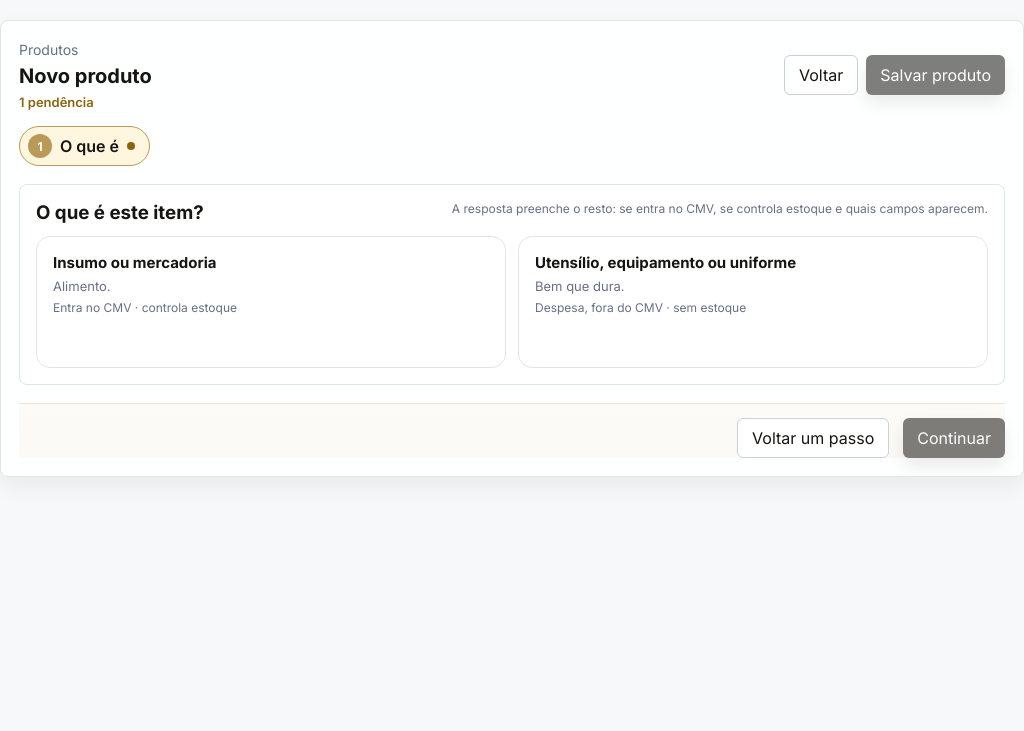
ProductEditor › avisa quando já existe item de nome parecido
This screenshot has width=1024, height=731.
Click the radio button labelled "Insumo ou mercadoria" at (135, 262), box [36,236,506,368]
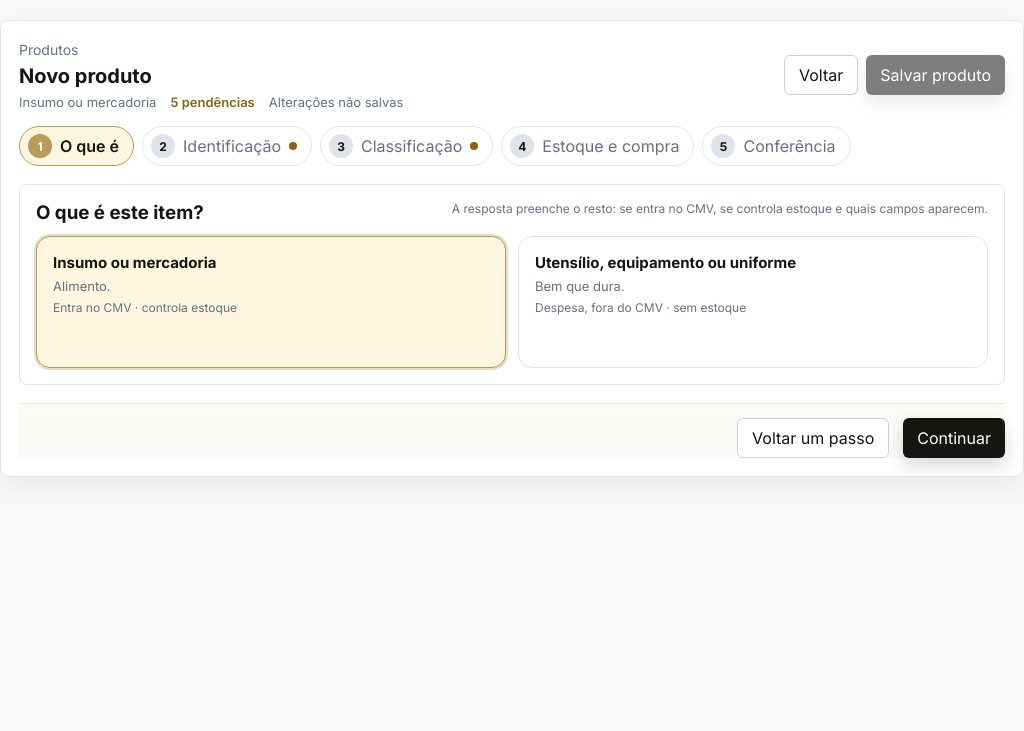
Click the button "Continuar" at (954, 438), box [903,418,1005,458]
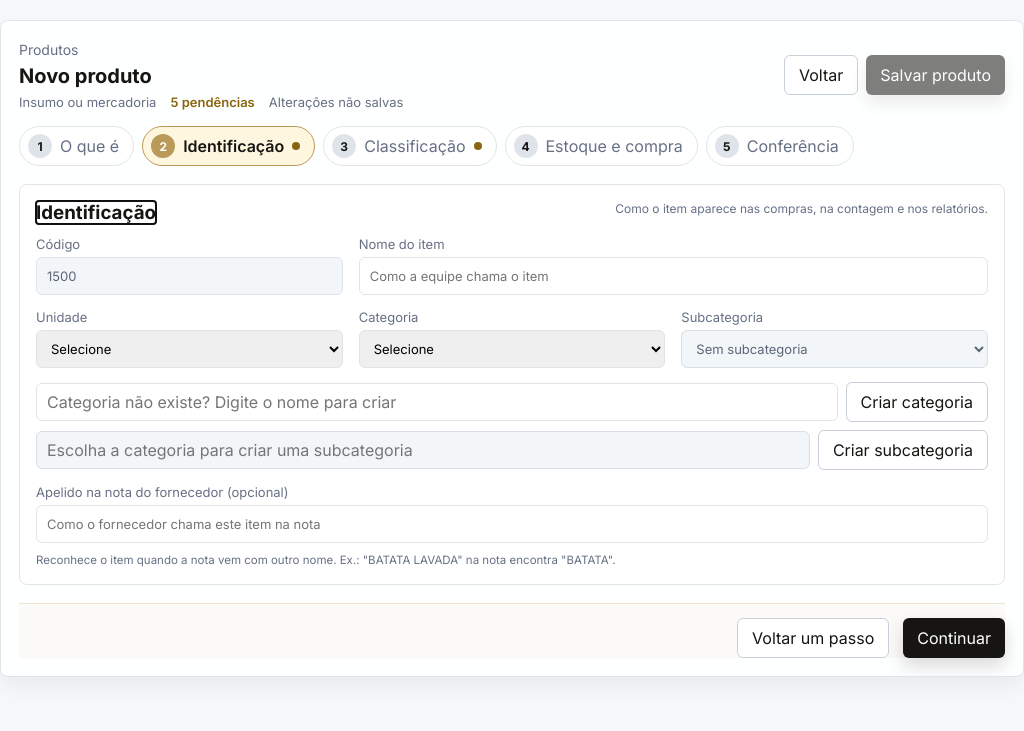
Type "Farinha de trigo" into the field with placeholder "Como a equipe chama o item" at (673, 276), box [359,257,988,295]
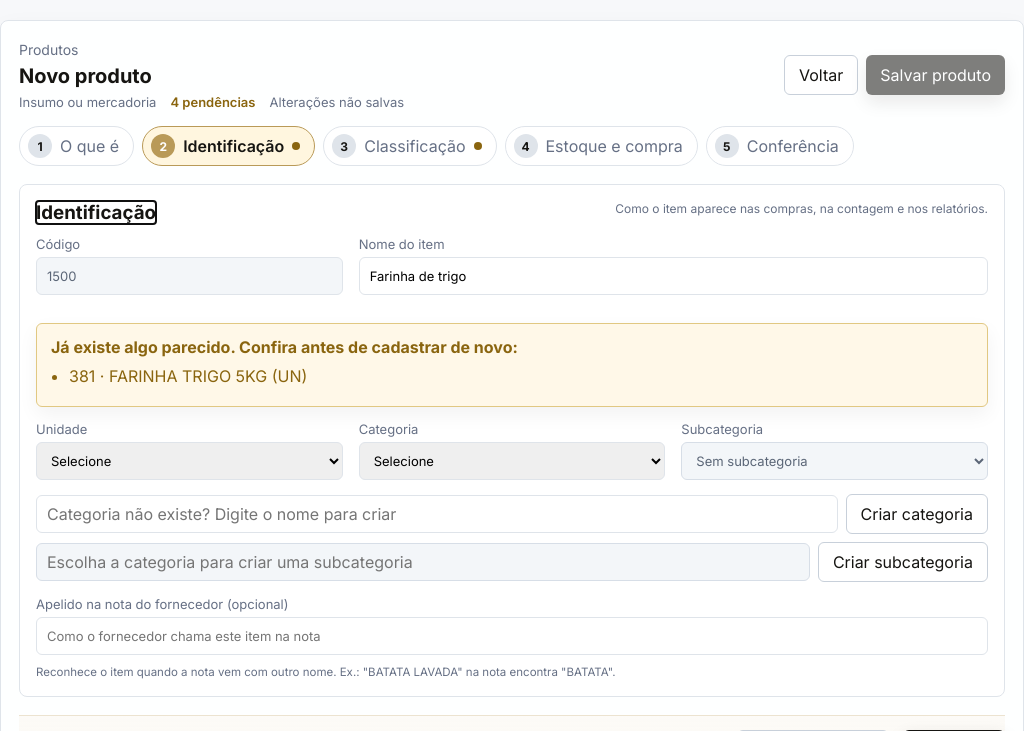
Result: the list item "381 · FARINHA TRIGO 5KG (UN)" is shown at [69,366,307,386]
